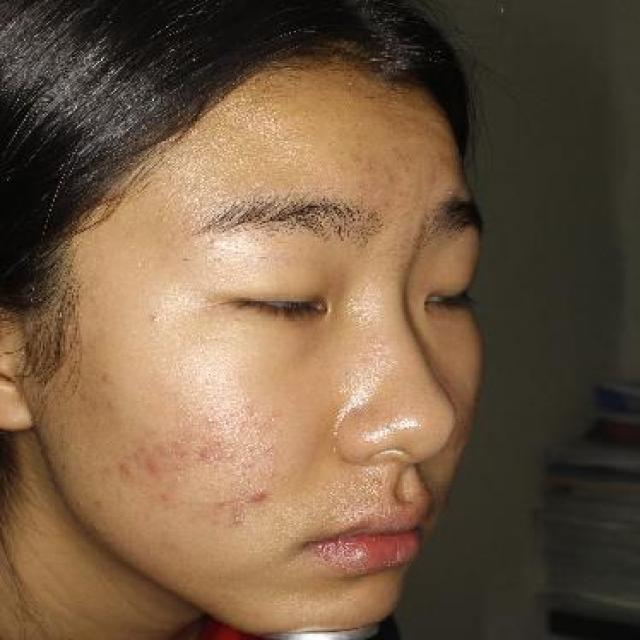blackheads: (147, 312, 166, 323)
dark spot: (244, 486, 268, 506), (228, 508, 248, 526), (193, 448, 214, 463), (145, 457, 161, 472), (116, 461, 132, 474), (371, 476, 385, 490)
pustules: (209, 237, 219, 248)
whiteheads: (157, 211, 168, 223), (214, 437, 226, 448), (204, 416, 217, 426), (257, 157, 270, 166), (168, 172, 178, 180)
